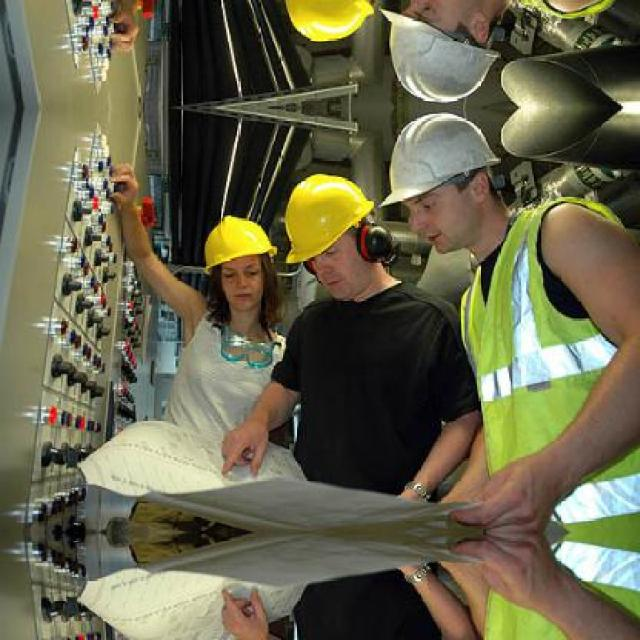helmet: (380, 107, 522, 262), (380, 0, 523, 106), (282, 164, 386, 294), (192, 201, 285, 313), (282, 0, 386, 49)
